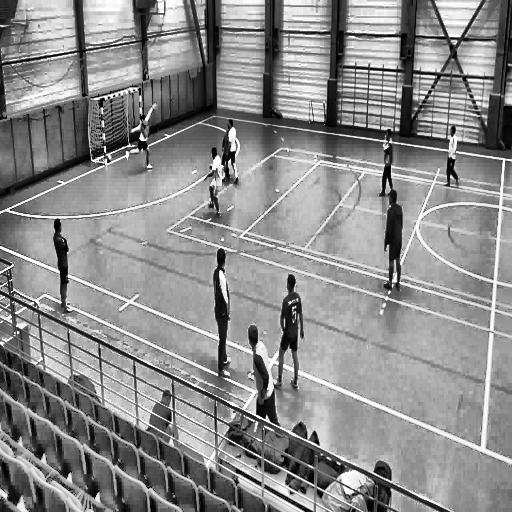ball: (106, 154, 113, 163)
